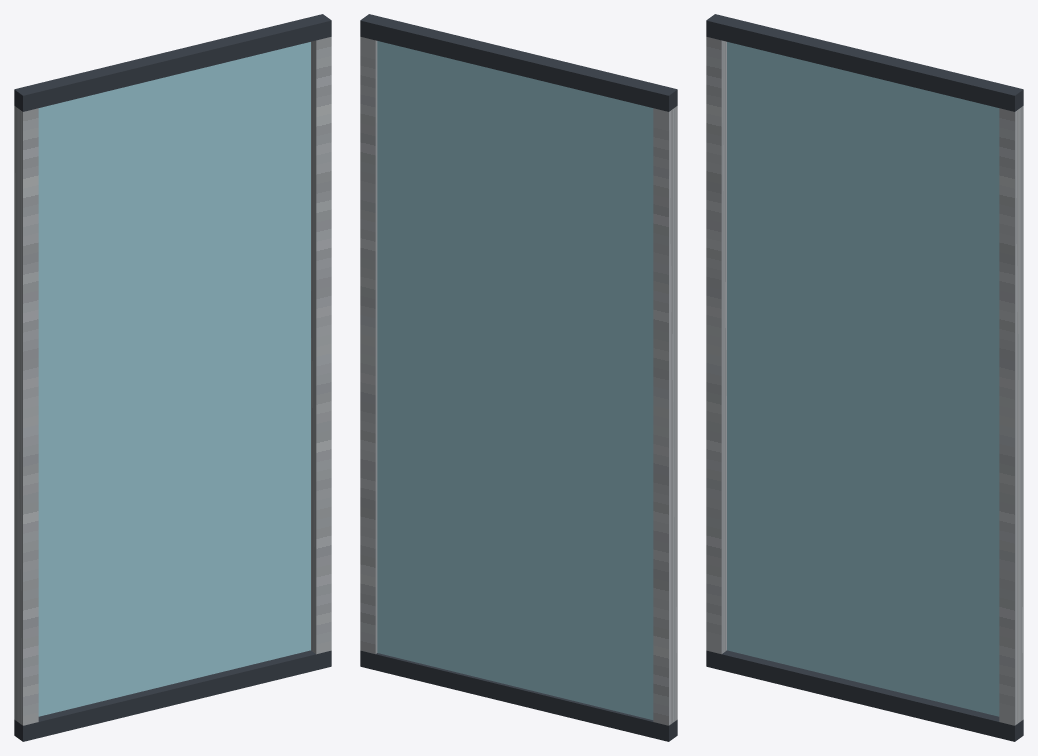
File: glass-2x4.glb
3 renders of one model, left to right at view 1: azimuth 30°, elevation 25°; view 2: azimuth 150°, elevation 25°; view 3: azimuth 330°, elevation 25°, orthographic.
Parts seen in each view (by area): view 1: Glass2x4; view 2: Glass2x4; view 3: Glass2x4.
Boxes of the visible parts, x1,y1,x2,y2 form: Glass2x4: [14, 14, 331, 741]; Glass2x4: [360, 14, 677, 741]; Glass2x4: [706, 14, 1023, 741].
Bounding box in the file's own units: 2 × 4 × 0.1.
3 materials, 1 textured.
